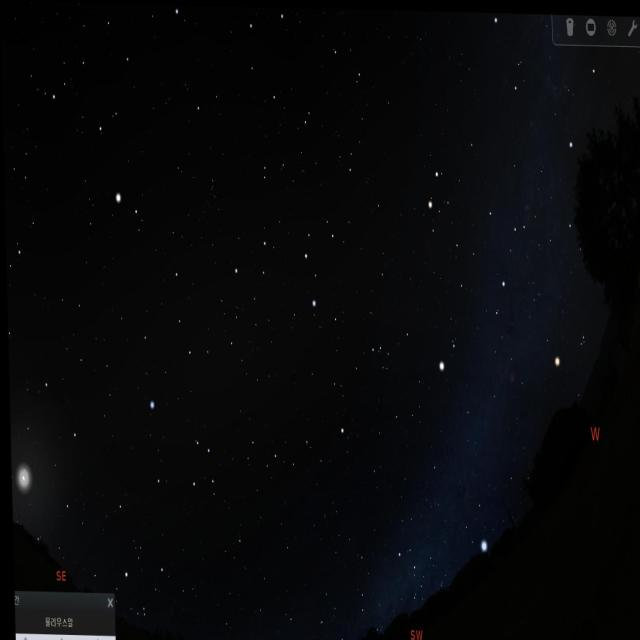bootes: (61, 1, 157, 213)
canis_minor: (428, 321, 458, 382)
gemini: (416, 158, 532, 301)
leo: (222, 195, 341, 327)
moon: (9, 441, 46, 528)
